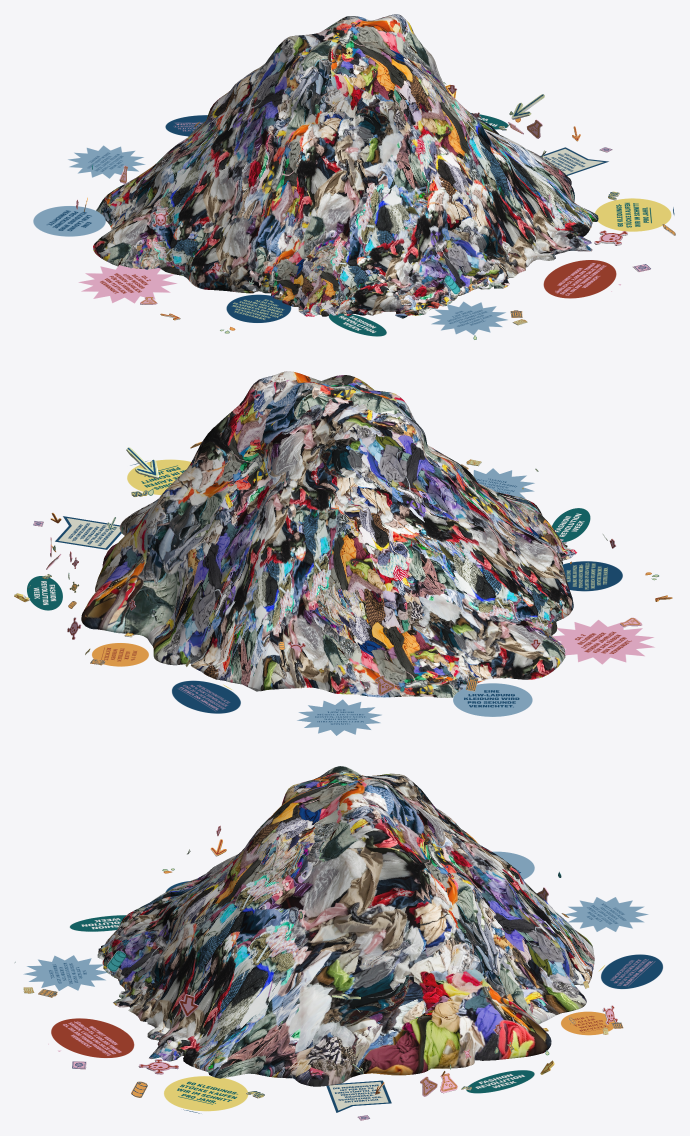
File: kleiderberg-Berg-13.glb
3 renders of one model, top to bottom at view 1: azimuth 30°, elevation 25°; view 2: azimuth 150°, elevation 25°; view 3: azimuth 270°, elevation 25°, orthographic. The views are drawn at different scales.
Parts seen in each view (by area): view 1: berg, Plane.4, Plane.7, Plane.8, Plane.10, Plane.12, Plane.9, Plane.5, Plane.11, Plane, Plane.6; view 2: berg, Plane.4, Plane.10, Plane.9, Plane.6, Plane.5, Plane.11, Plane.8, Plane.1, Plane.12, Plane.2, Plane; view 3: berg, Plane.7, Plane.8, Plane.12, Plane.9, Plane.6, Plane.11, Plane.2, Plane.1, Plane, Plane.10.
Boxes of the visible parts, x1,y1,x2,y2 form: berg: (93,14,598,318); Plane.4: (78,265,176,303); Plane.7: (543,260,620,298); Plane.8: (595,198,674,231); Plane.10: (33,206,105,236); Plane.12: (429,301,507,334); Plane.9: (68,145,145,178); Plane.5: (226,294,291,322); Plane.11: (540,147,609,175); Plane: (328,313,386,336); Plane.6: (165,115,207,136); berg: (81,371,576,697); Plane.4: (553,620,654,664); Plane.10: (453,683,532,716); Plane.9: (297,699,381,735); Plane.6: (172,680,240,713); Plane.5: (562,561,622,591); Plane.11: (54,516,121,549); Plane.8: (127,459,191,494); Plane.1: (92,643,148,666); Plane.12: (473,468,534,498); Plane.2: (27,576,62,610); Plane: (552,508,590,542); berg: (97,766,594,1086); Plane.7: (48,1018,134,1057); Plane.8: (164,1076,248,1113); Plane.12: (23,955,106,990); Plane.9: (565,897,648,931); Plane.6: (598,954,662,988); Plane.11: (326,1080,391,1112); Plane.2: (466,1070,534,1093); Plane.1: (561,1011,614,1035); Plane: (69,915,126,931); Plane.10: (492,851,534,879).
Bounding box in the file's own units: 18.15 × 6.1 × 17.66.
Materials: 3 (3 with a texture image).
